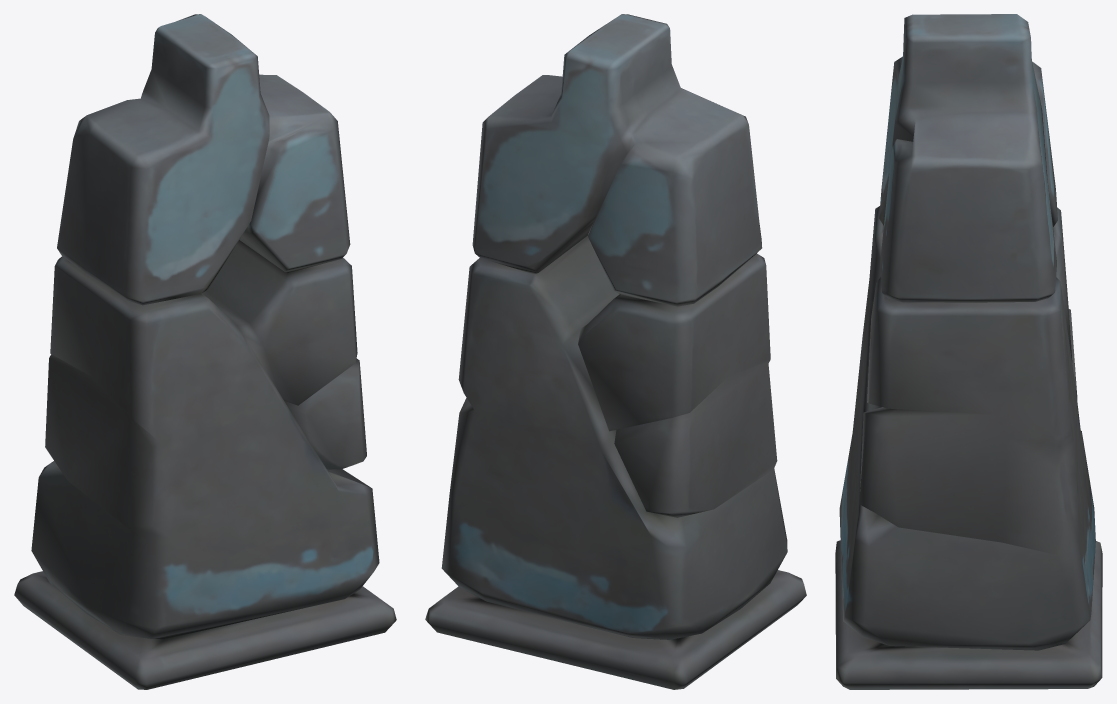
The model's file is Meshy_AI_model_20261128_texture.fbx.
3 views of the same model, side by side, from view 1: azimuth 30°, elevation 25°; view 2: azimuth 150°, elevation 25°; view 3: azimuth 270°, elevation 25° (orthographic). The views are drawn at different scales.
Parts seen in each view (by area): view 1: geometry_0; view 2: geometry_0; view 3: geometry_0.
Part boxes in pixels (left/top/right/bottom): geometry_0: left=14, top=14, right=396, bottom=689; geometry_0: left=425, top=14, right=806, bottom=689; geometry_0: left=835, top=14, right=1102, bottom=689.
Bounding box in the file's own units: 47.24 × 99.91 × 40.17.
1 material, 1 textured.
